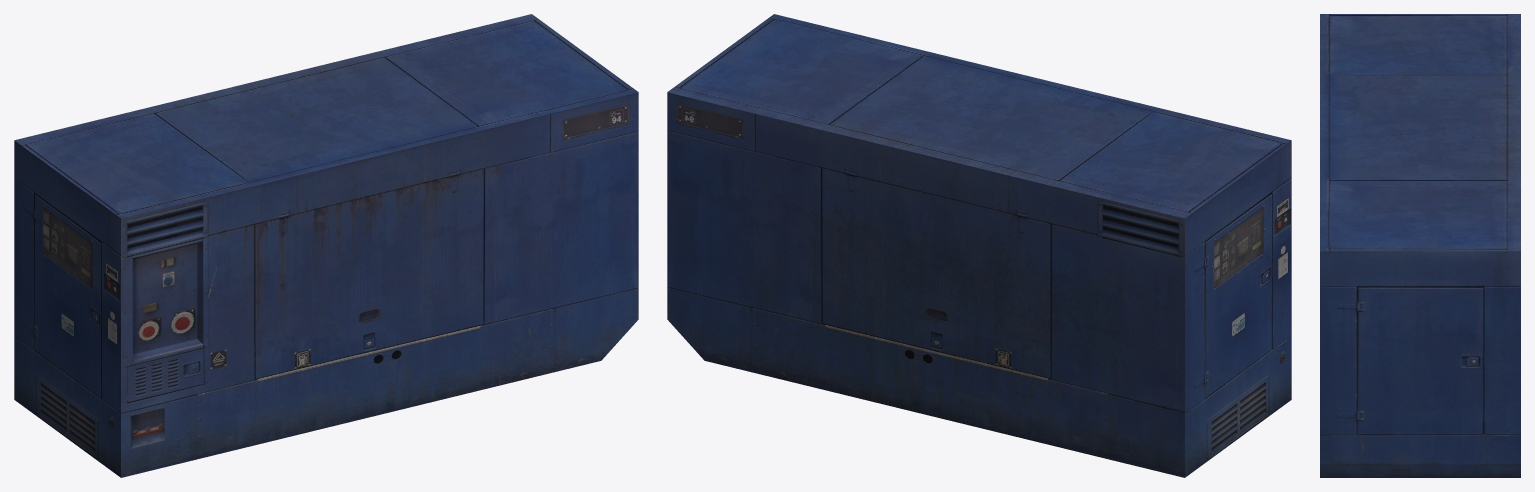
The model's file is Generator_v1.glb.
3 views of the same model, side by side, from view 1: azimuth 30°, elevation 25°; view 2: azimuth 150°, elevation 25°; view 3: azimuth 270°, elevation 25° (orthographic). The views are drawn at different scales.
Parts seen in each view (by area): view 1: Generator_v1; view 2: Generator_v1; view 3: Generator_v1.
Boxes of the visible parts, left/top/right/bottom form: Generator_v1: left=14, top=14, right=638, bottom=477; Generator_v1: left=667, top=14, right=1291, bottom=477; Generator_v1: left=1320, top=14, right=1520, bottom=477.
Bounding box in the file's own units: 3.65 × 1.75 × 1.31.
1 material, 1 textured.
